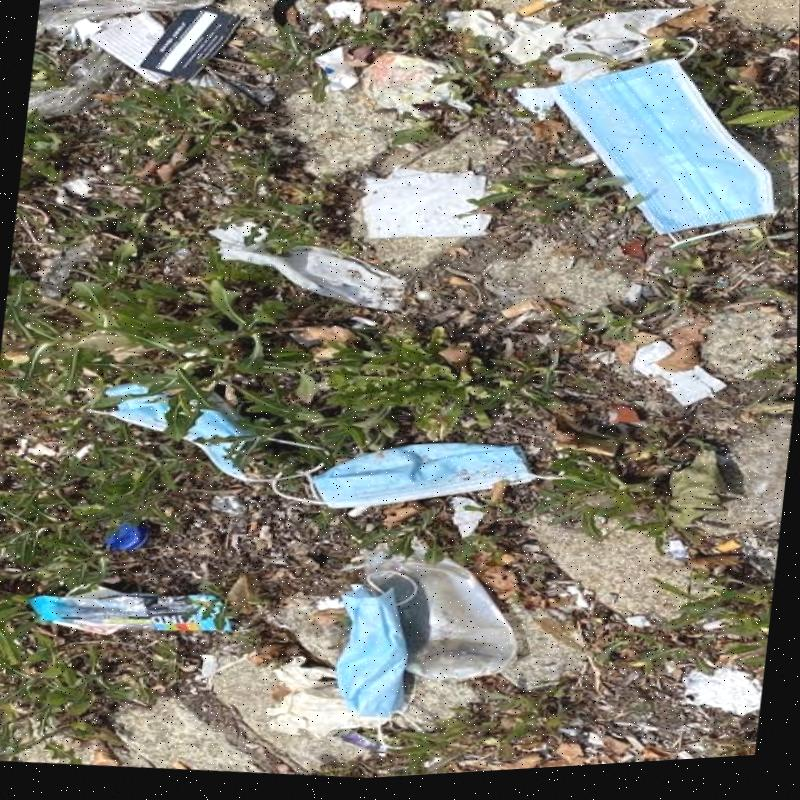facemask: (555, 57, 782, 234), (88, 371, 277, 481), (208, 223, 407, 308), (308, 438, 539, 509), (335, 569, 419, 716)
paper: (356, 166, 493, 240)
plastic sachet: (28, 586, 228, 633)
